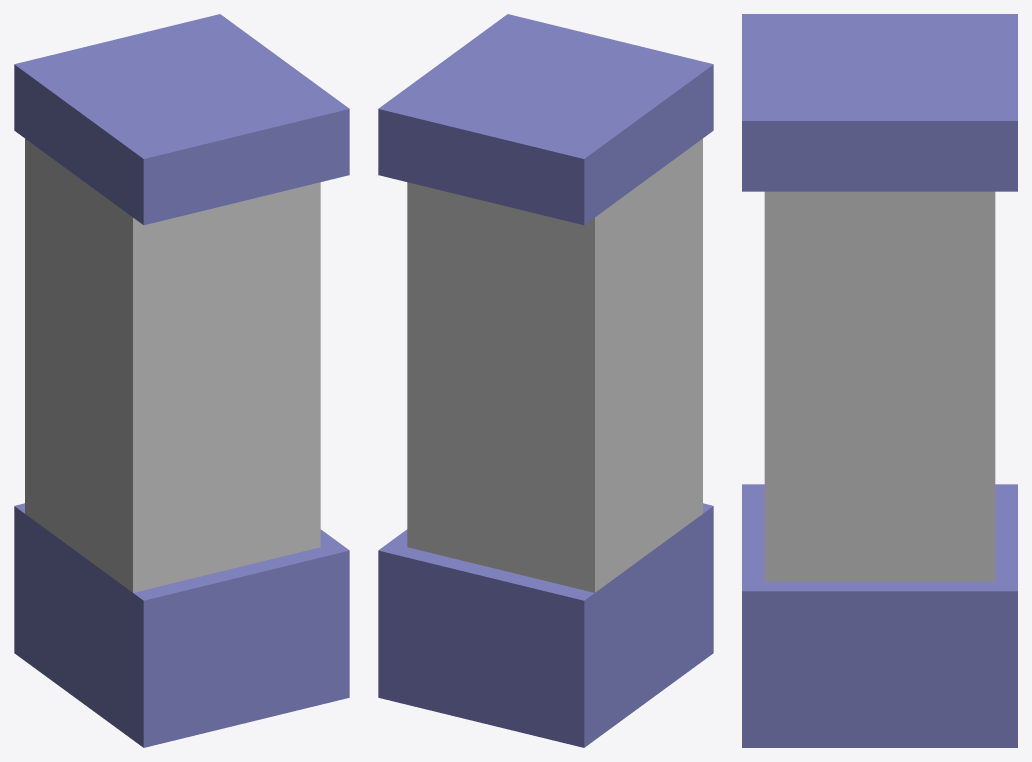
The model's file is Wallendcap.fbx.
The picture shows the model from 3 angles, left to right: view 1: azimuth 30°, elevation 25°; view 2: azimuth 150°, elevation 25°; view 3: azimuth 270°, elevation 25°; orthographic projection. The views are drawn at different scales.
Parts seen in each view (by area): view 1: Cube.005; view 2: Cube.005; view 3: Cube.005.
Part boxes in pixels (x1,y1,x2,y2): Cube.005: [14, 14, 349, 747]; Cube.005: [378, 14, 713, 747]; Cube.005: [742, 14, 1017, 747].
Bounding box in the file's own units: 110 × 300 × 120.
